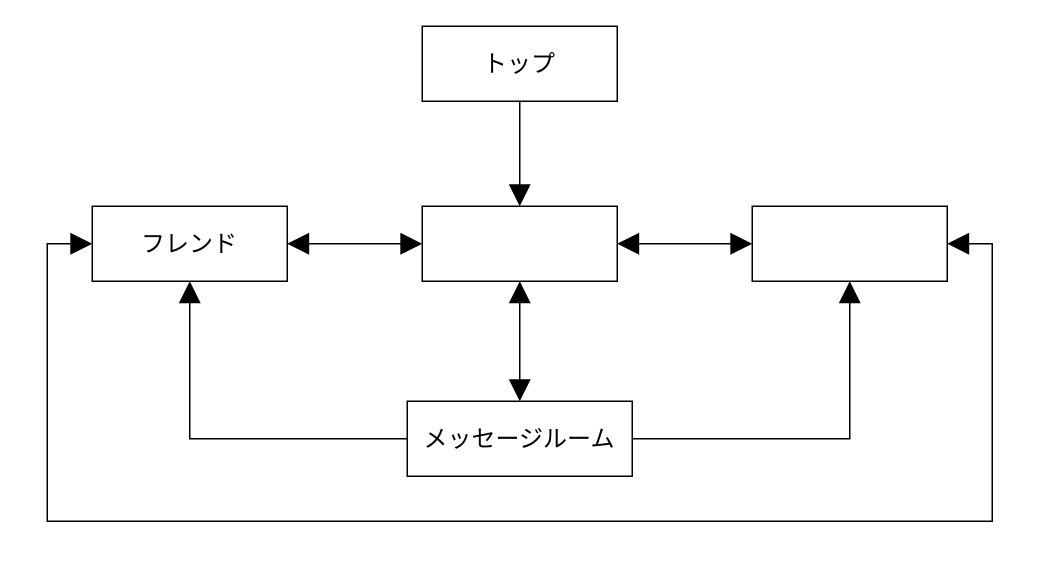
The diagram is 1041 pixels wide and 570 high, and some of its shapes have lost their labels. The shapes that lost their labels are listed below. From the top down, each one's centre as x and y in pixels, then its label:
(x=519, y=243): 募集一覧
(x=849, y=243): プロフィール
